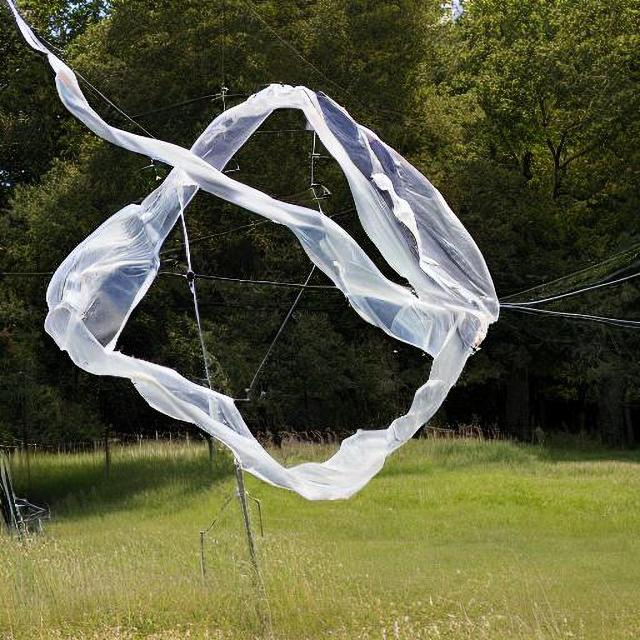floating object: (6, 8, 508, 509)
